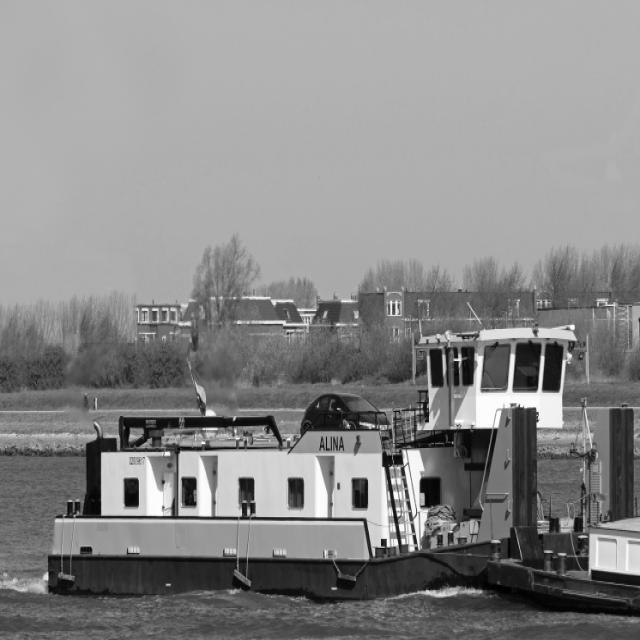tugboat: (43, 315, 640, 612)
